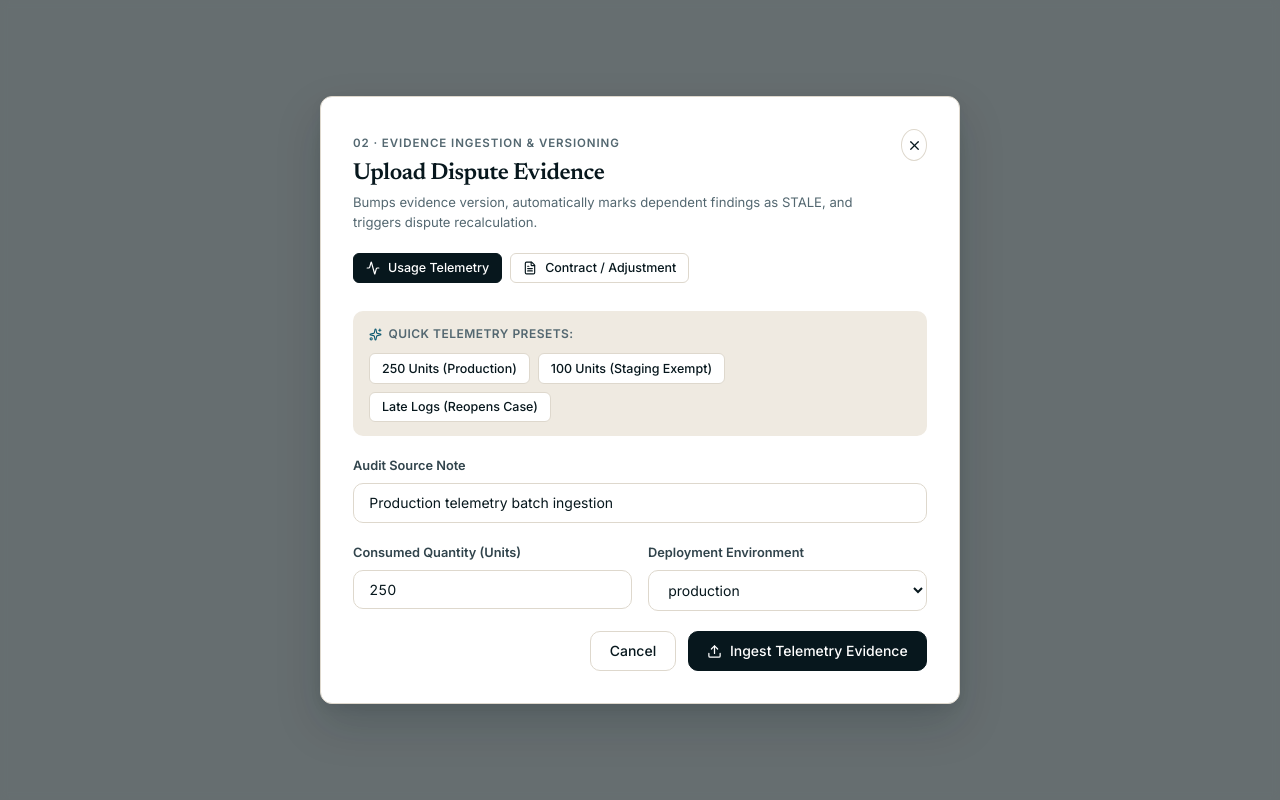
Test: EvidenceModal Component Flow › displays a validation error when quantity is invalid or negative
Replace the text in the number field labelled "Consumed Quantity (Units)" with "-25". click: (492, 590)
box: [353,570,632,610]
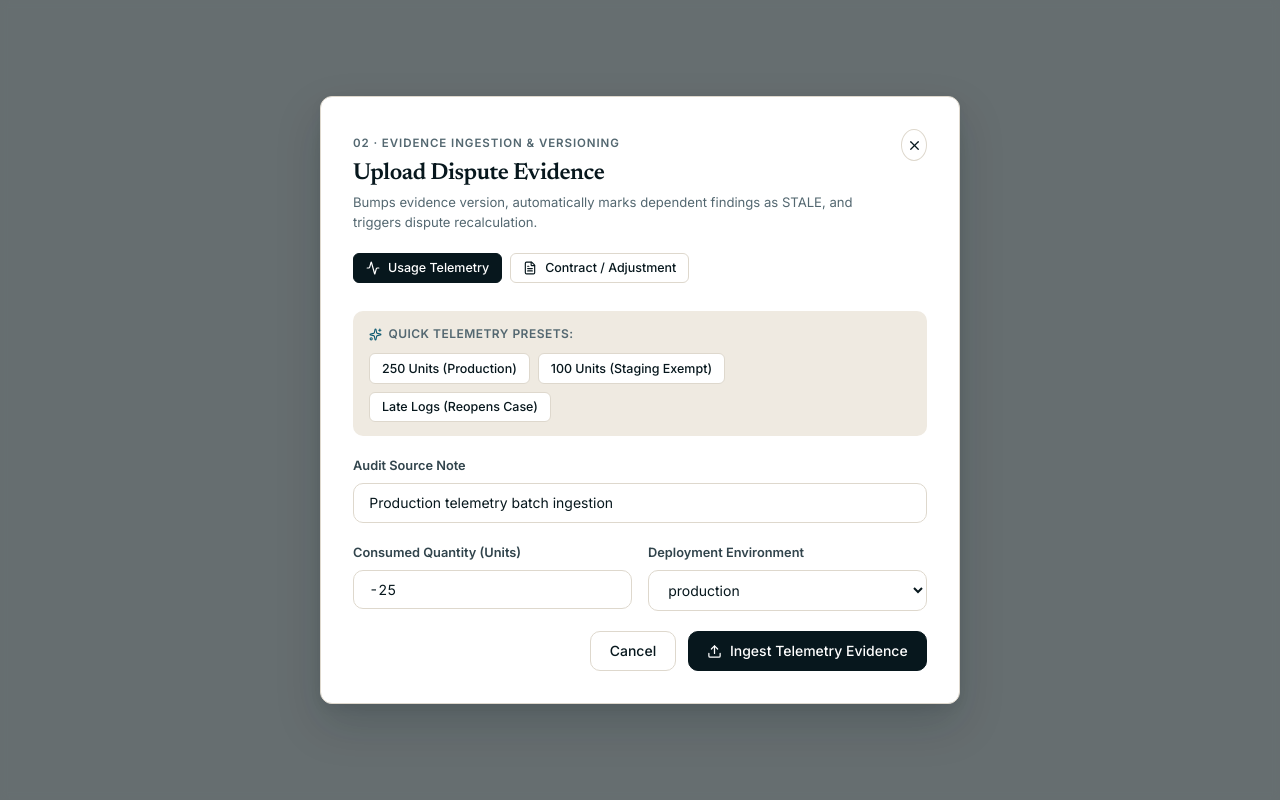
Click the button "Ingest Telemetry Evidence". click: (807, 651)
box: [688,631,927,671]
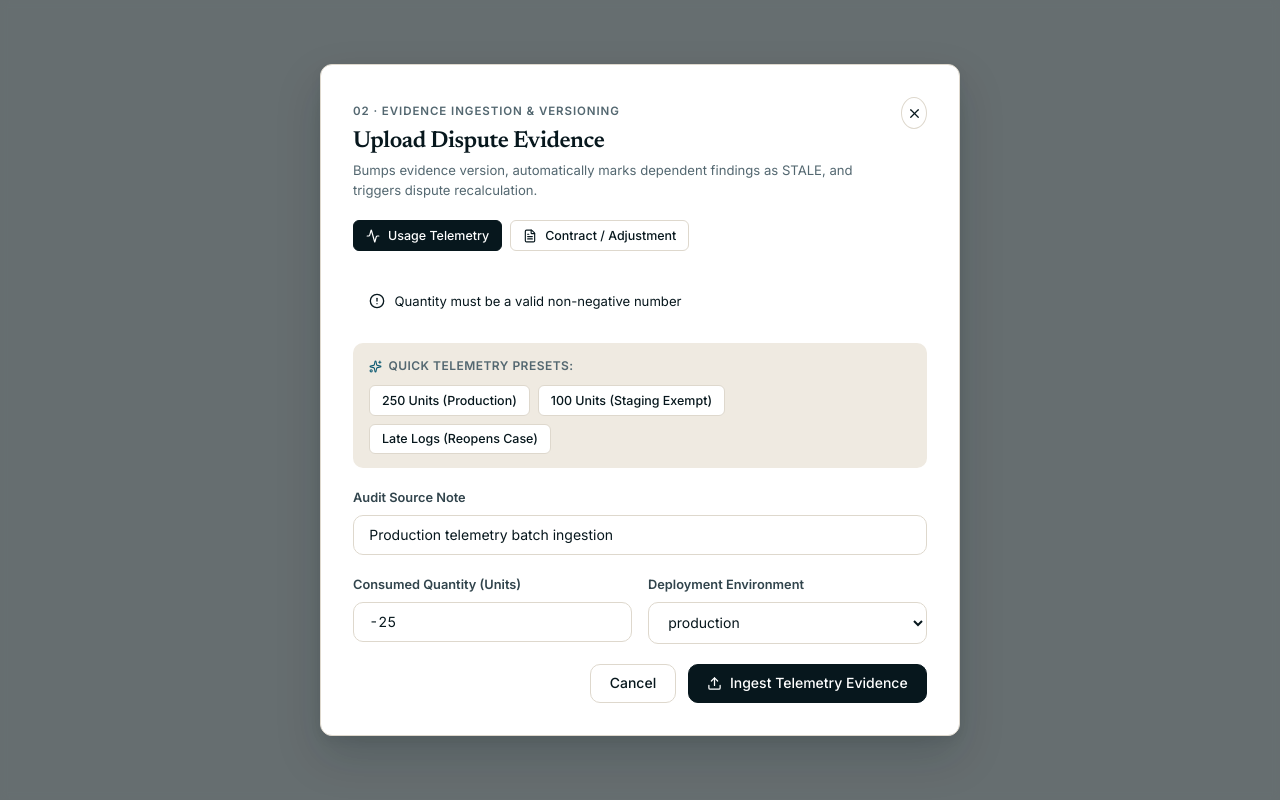
Now the text "Quantity must be a valid non-negative number" is shown, box [395,291,682,311]
